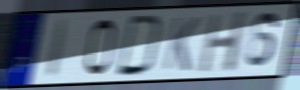0: (84, 17, 116, 78)
6: (245, 11, 281, 72)
D: (115, 14, 165, 78)
H: (197, 9, 249, 74)
I: (45, 17, 72, 80)
K: (161, 16, 202, 74)
